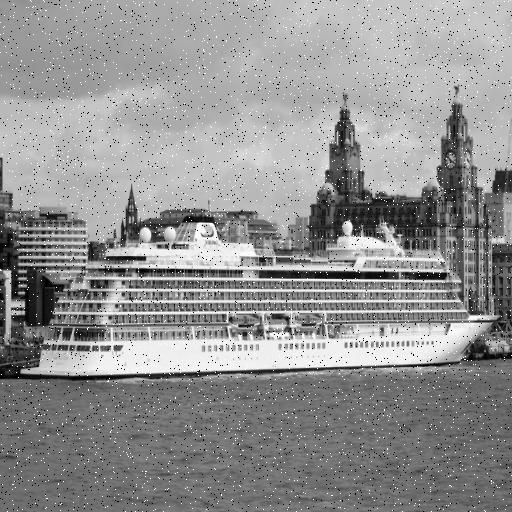cruises: (16, 215, 504, 388)
